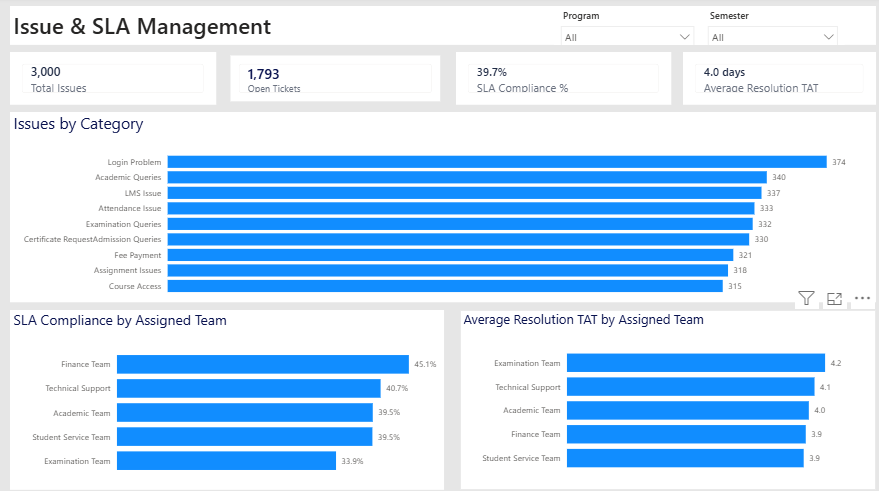

The dashboard page shown, as its layout file describes it:
{"tool":"powerbi","page":{"name":"Issue & SLA Management","canvas":[1280,720],"ordinal":2},"visuals":[{"type":"clusteredBarChart","title":"Issues by Category","fields":{"Y":["Issue_Tracker.Total Issues"],"Category":["Issue_Tracker.Issue_Category"]},"box":[14.4,165.6,1247,273.6],"z":0},{"type":"textbox","box":[14.4,13,1247,56.2],"z":1000},{"type":"clusteredBarChart","title":"SLA Compliance  by Assigned Team","fields":{"Y":["Issue_Tracker.SLA Compliance %"],"Category":["Issue_Tracker.Assigned_Team"]},"box":[14.4,450.7,625,259.2],"z":2000},{"type":"clusteredBarChart","title":"Average Resolution TAT by Assigned Team","fields":{"Category":["Issue_Tracker.Assigned_Team"],"Y":["Issue_Tracker.Average Resolution TAT"]},"box":[662.4,450.7,599,259.2],"z":3000},{"type":"cardVisual","fields":{"Data":["Issue_Tracker.Total Issues"]},"box":[14.4,79.2,296.6,76.3],"z":4000},{"type":"cardVisual","fields":{"Data":["Issue_Tracker.Open Tickets"]},"box":[326.9,79.2,312.5,76.3],"z":5000},{"type":"cardVisual","fields":{"Data":["Issue_Tracker.SLA Compliance %"]},"box":[656.2,79.2,309.6,76.3],"z":6000},{"type":"cardVisual","fields":{"Data":["Issue_Tracker.Average Resolution TAT"]},"box":[983.5,79.2,277.9,76.3],"z":7000},{"type":"slicer","fields":{"Values":["Student_Master.Program"]},"box":[797.8,13,211.7,56.2],"z":8000},{"type":"slicer","fields":{"Values":["Student_Master.Semester"]},"box":[1009.4,13,207.4,56.2],"z":9000}]}

Visuals, with their boxes in screenshot pixels (x1, y1, x2, y2), scaled from the page's 1280x720 canvas onto the 879x491 screenshot:
"Issues by Category" clusteredBarChart: 10/113/866/300
textbox: 10/9/866/47
"SLA Compliance  by Assigned Team" clusteredBarChart: 10/307/439/484
"Average Resolution TAT by Assigned Team" clusteredBarChart: 455/307/866/484
cardVisual - Issue_Tracker.Total Issues: 10/54/214/106
cardVisual - Issue_Tracker.Open Tickets: 224/54/439/106
cardVisual - Issue_Tracker.SLA Compliance %: 451/54/663/106
cardVisual - Issue_Tracker.Average Resolution TAT: 675/54/866/106
slicer - Student_Master.Program: 548/9/693/47
slicer - Student_Master.Semester: 693/9/836/47
